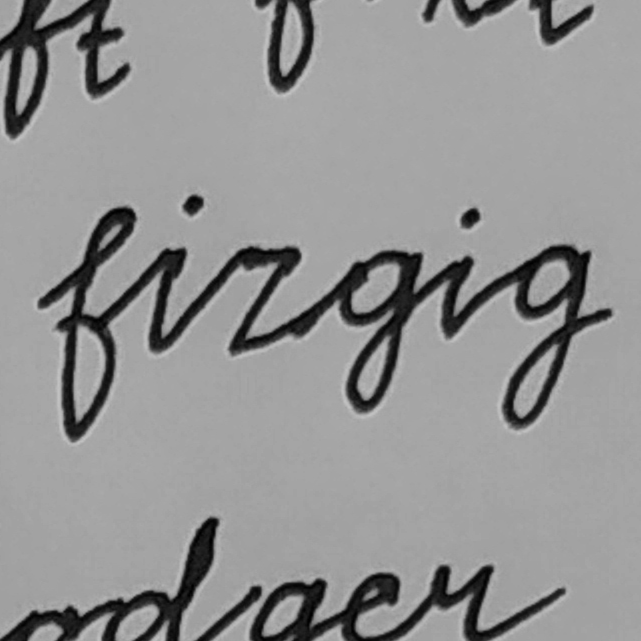f: (35, 199, 138, 445)
g: (496, 236, 596, 433), (327, 239, 428, 421)
i: (141, 189, 209, 365), (431, 200, 491, 346)
z: (217, 236, 310, 365)
